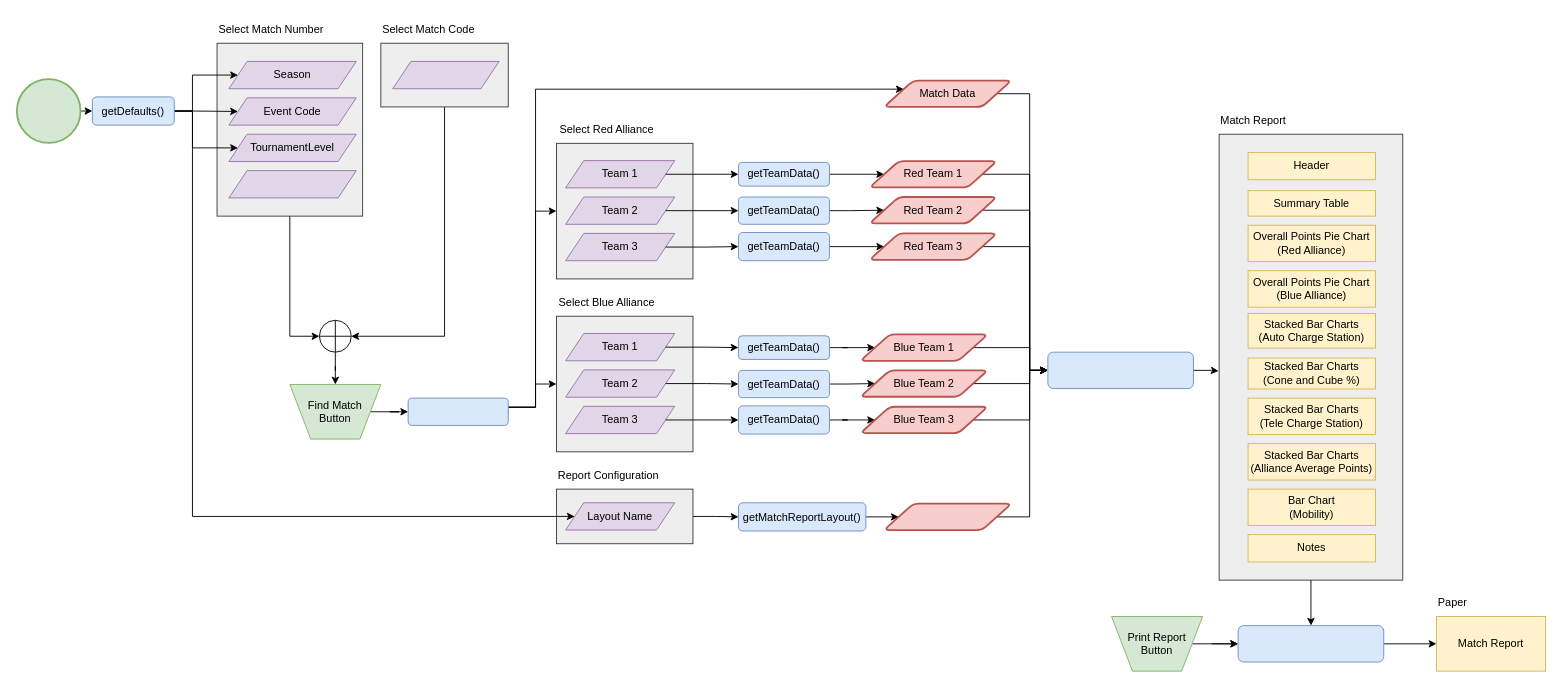
This 1562x687 diagram has some shape labels left out. The box of each missing label's shape, as (x1, y1, x2, y2) in pixels:
generateMatchReport(): (1047, 351, 1193, 389)
getMatchData(): (407, 397, 508, 425)
Match Code: (392, 61, 499, 89)
Match Number: (228, 170, 356, 198)
on page load: (15, 78, 81, 143)
printMatchReport(): (1237, 625, 1384, 662)
Report Layout: (883, 502, 1012, 531)
